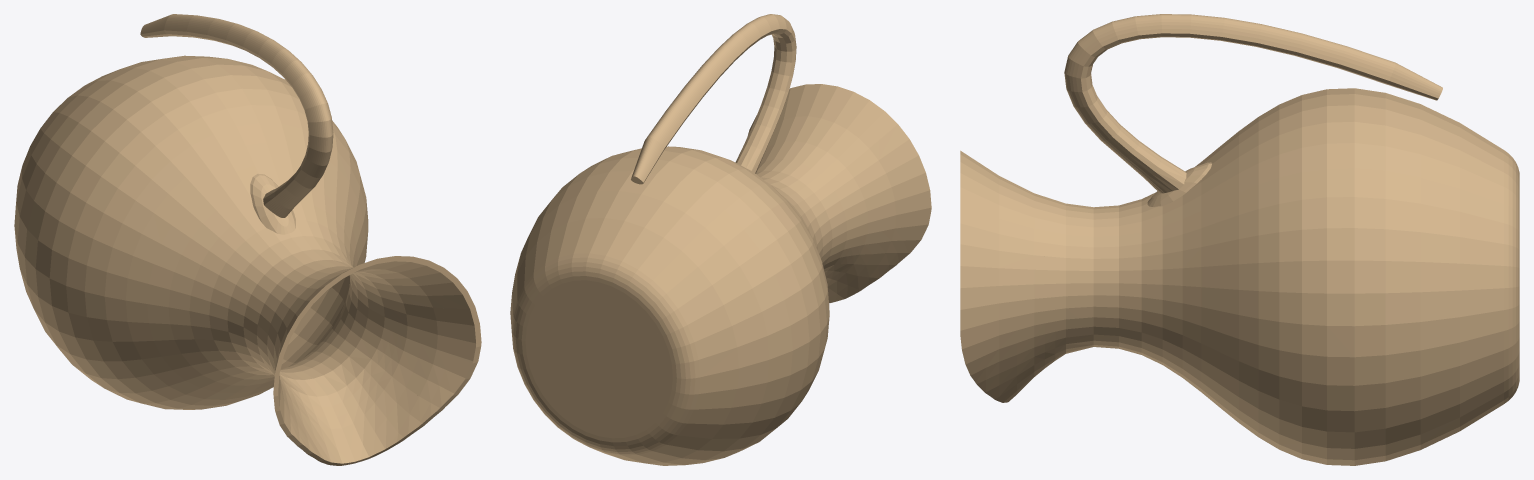
3 views of the same model, side by side, from view 1: azimuth 30°, elevation 25°; view 2: azimuth 150°, elevation 25°; view 3: azimuth 270°, elevation 25° (orthographic). The views are drawn at different scales.
Visible parts, largest first — view 1: cruche; view 2: cruche; view 3: cruche.
Part boxes in pixels (<box>): cruche: <box>14,14,481,465</box>; cruche: <box>510,14,931,465</box>; cruche: <box>960,14,1519,465</box>.
Bounding box in the file's own units: 58.5 × 74 × 86.31.
